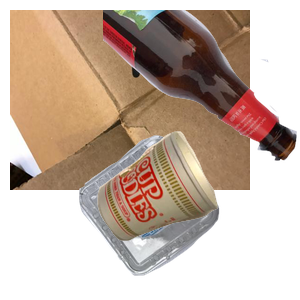cardboard: (10, 10, 250, 190)
glass: (103, 10, 300, 163)
plastic: (77, 133, 289, 300)
trash: (95, 129, 300, 300)
